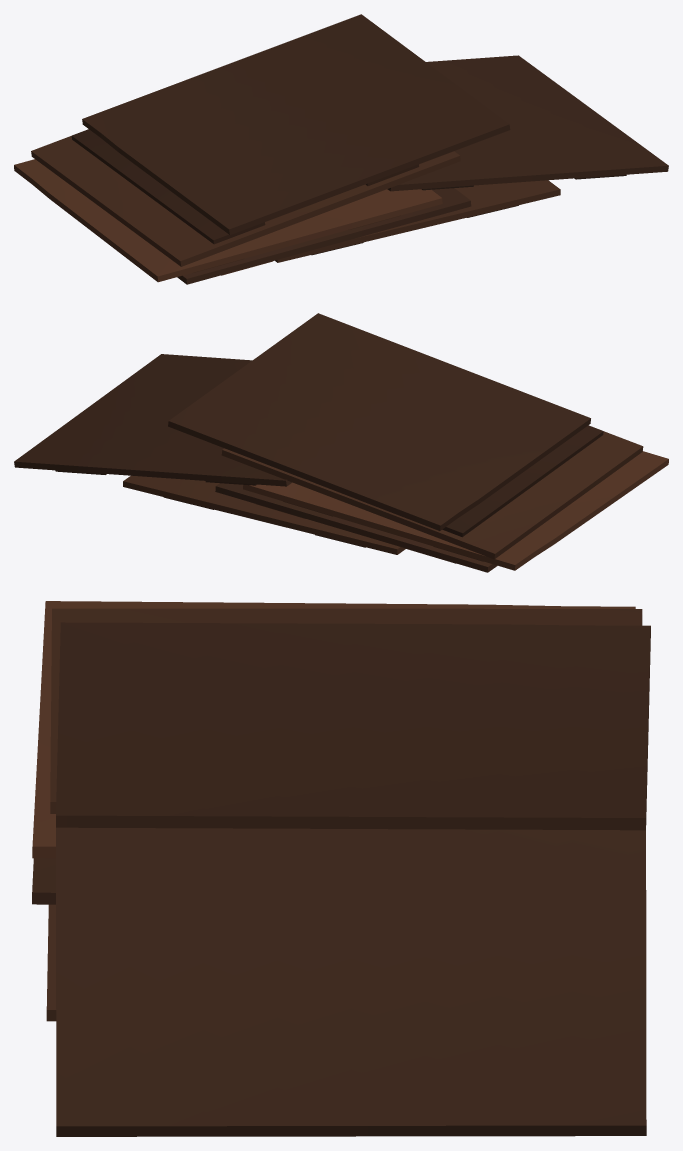
File: Multiple Med Messy Dark Crate Lids.fbx
The picture shows the model from 3 angles, top to bottom: view 1: azimuth 30°, elevation 25°; view 2: azimuth 150°, elevation 25°; view 3: azimuth 270°, elevation 25°; orthographic projection. The views are drawn at different scales.
Visible parts, largest first — view 1: Med Multiple Messy Dark Crate Lids; view 2: Med Multiple Messy Dark Crate Lids; view 3: Med Multiple Messy Dark Crate Lids.
Part boxes in pixels (x1,y1,x2,y2): Med Multiple Messy Dark Crate Lids: (14, 14, 668, 284); Med Multiple Messy Dark Crate Lids: (14, 313, 668, 572); Med Multiple Messy Dark Crate Lids: (32, 601, 650, 1136).
Bounding box in the file's own units: 60.77 × 201 × 379.
1 material, 1 textured.
